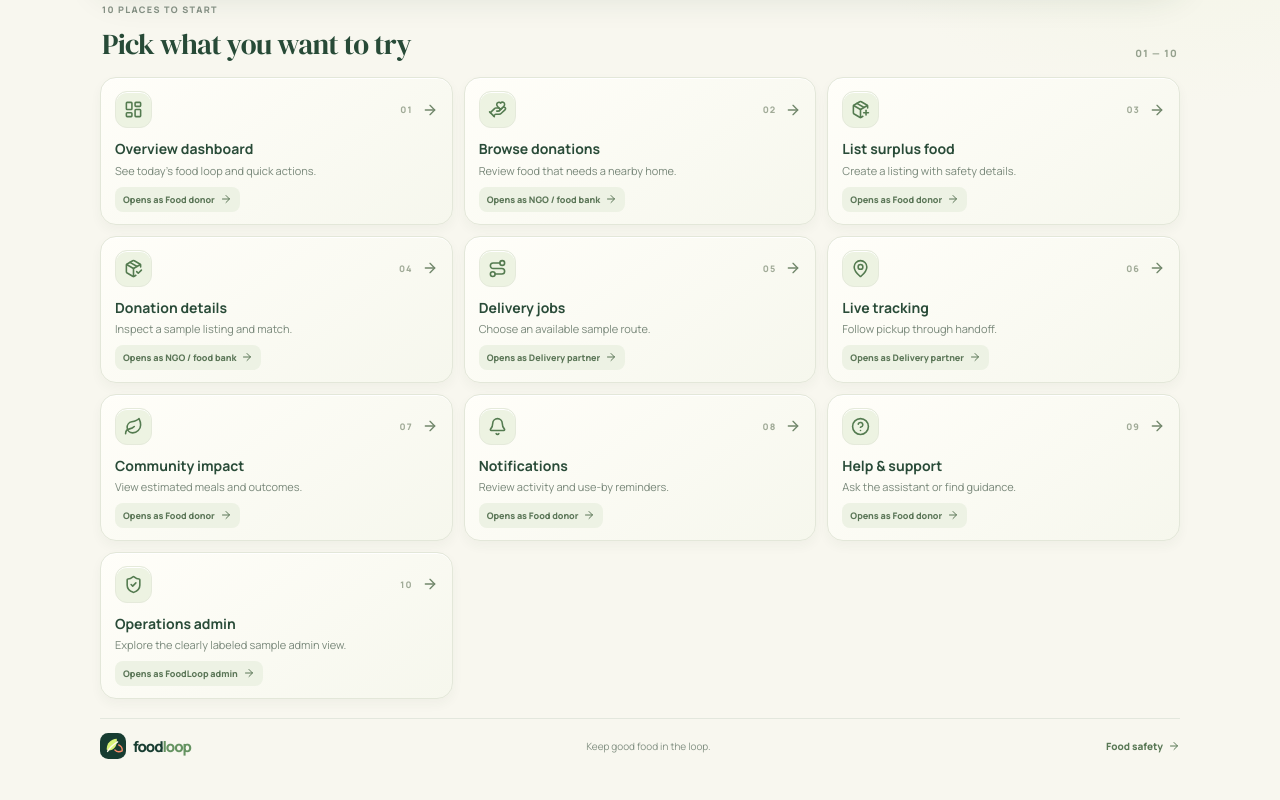
Scenario: FoodLoop screen selection › opens Help & support with the donor demo identity
(page scrolled)
Click the button with aria-label "Open Help & support as Food donor" at (861,426), box [827,394,1180,541]
(page scrolled)
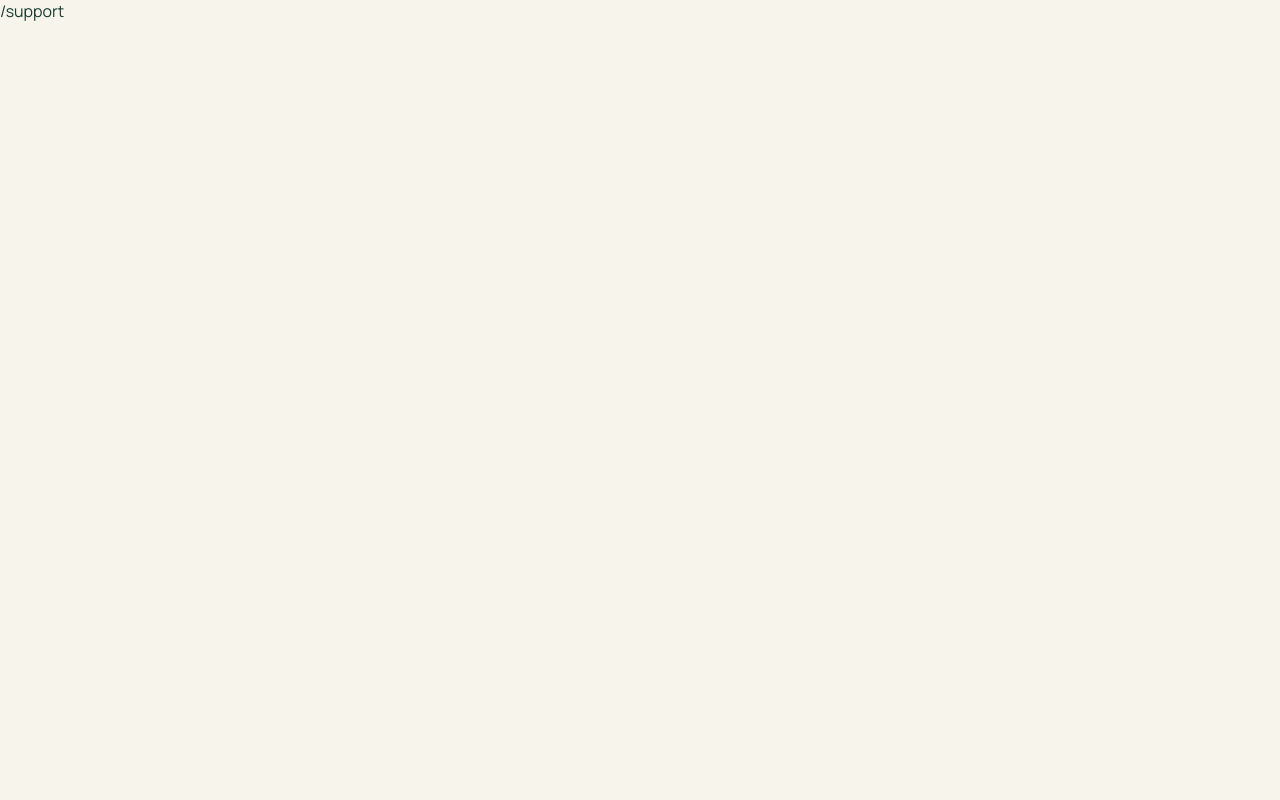
Expected: the text with test id "current-route" reads "/support", [0,0,64,22]
